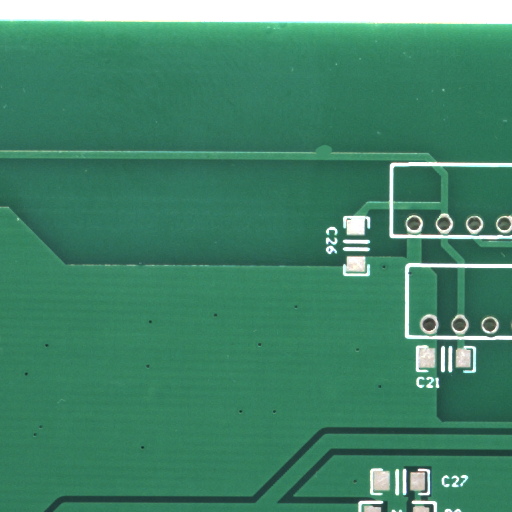Spur: (324, 149, 341, 159)
